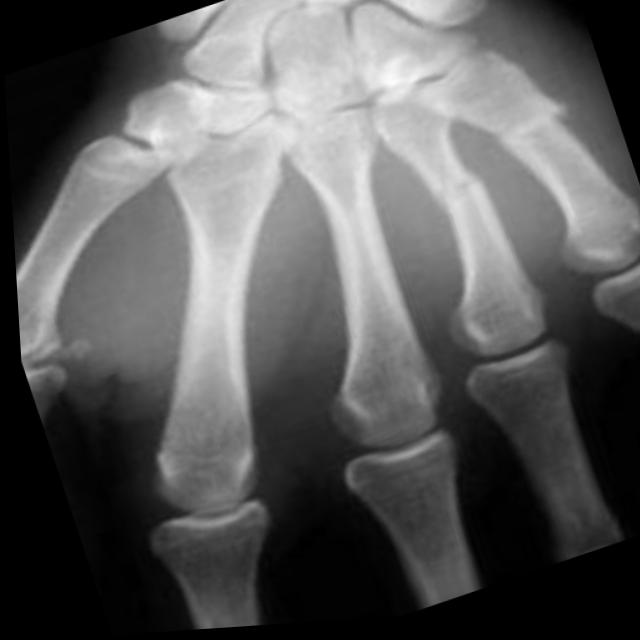fracture: (481, 95, 582, 165), (416, 167, 496, 231)
